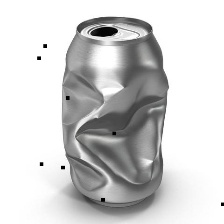can: (58, 13, 174, 211)
